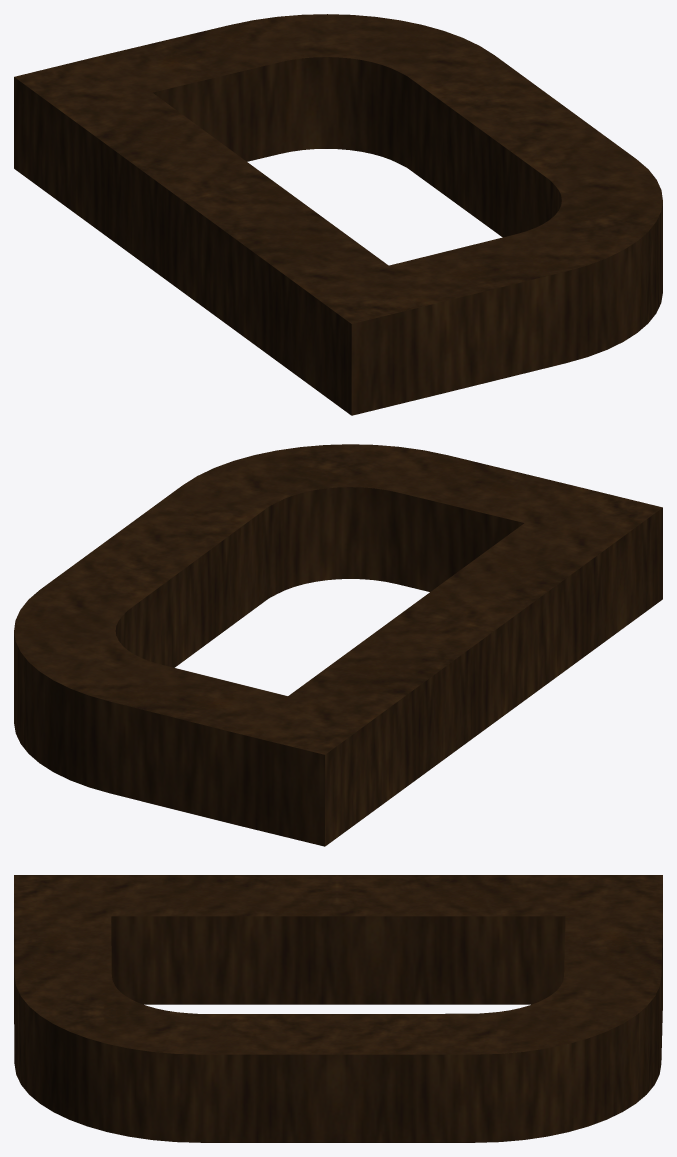
File: LetterD.obj
3 renders of one model, top to bottom at view 1: azimuth 30°, elevation 25°; view 2: azimuth 150°, elevation 25°; view 3: azimuth 270°, elevation 25°, orthographic. The views are drawn at different scales.
Parts seen in each view (by area): view 1: LetterD; view 2: LetterD; view 3: LetterD.
Boxes of the visible parts, left/top/right/bottom form: LetterD: left=14, top=14, right=662, bottom=415; LetterD: left=14, top=444, right=662, bottom=846; LetterD: left=14, top=875, right=662, bottom=1142.
Bounding box in the file's own units: 0.6543 × 0.15 × 1.
